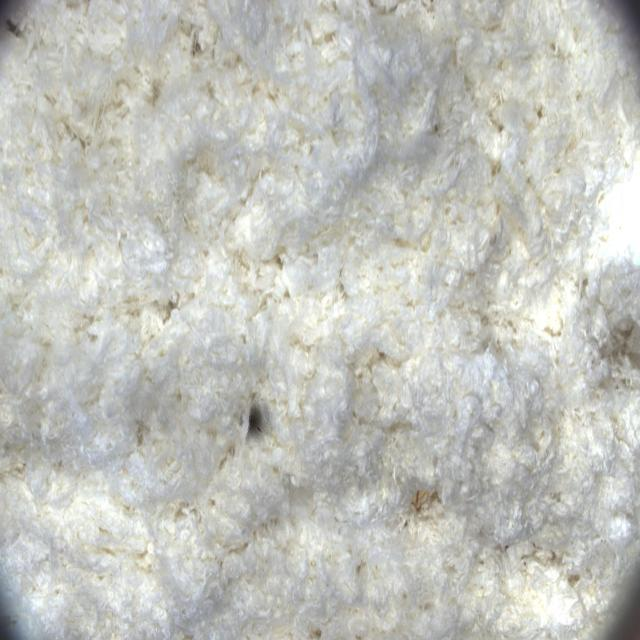dust: (230, 386, 286, 455)
